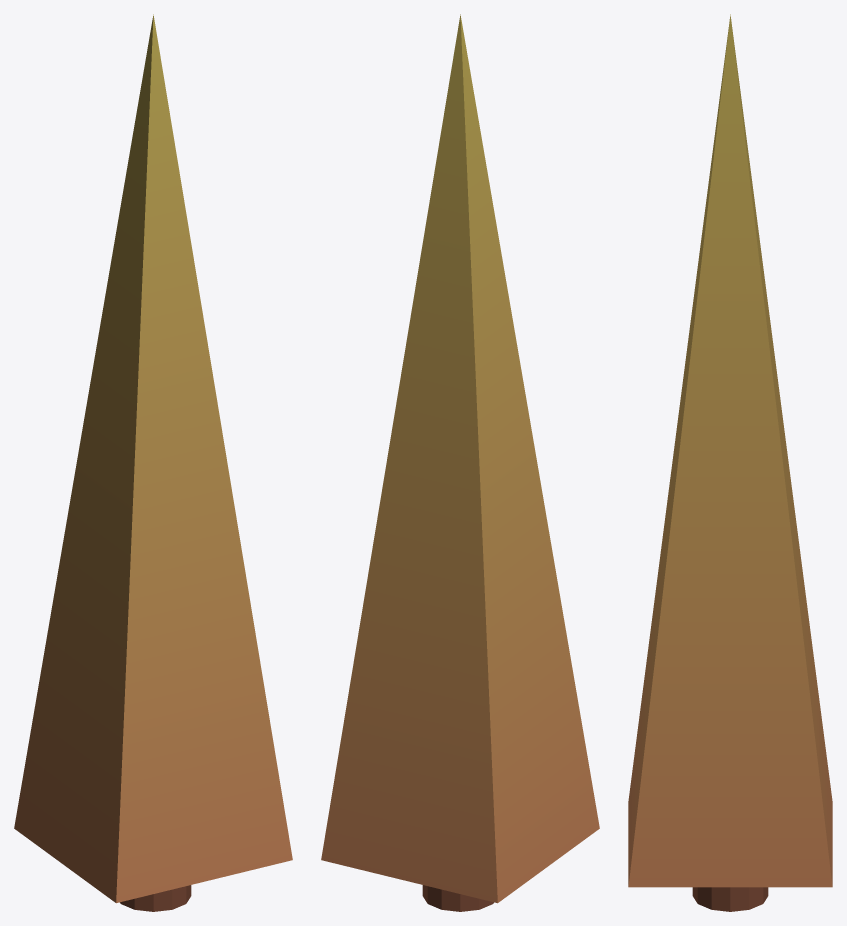
File: Tree_19_gradient_yellow_vc.fbx
The picture shows the model from 3 angles, left to right: view 1: azimuth 30°, elevation 25°; view 2: azimuth 150°, elevation 25°; view 3: azimuth 270°, elevation 25°; orthographic projection.
Parts seen in each view (by area): view 1: Tree_19_gradient_yellow_vc; view 2: Tree_19_gradient_yellow_vc; view 3: Tree_19_gradient_yellow_vc.
Boxes of the visible parts, x1,y1,x2,y2 form: Tree_19_gradient_yellow_vc: (14,14,292,911); Tree_19_gradient_yellow_vc: (321,14,599,911); Tree_19_gradient_yellow_vc: (628,14,832,911).
Size of the model in its own units: 59.69 by 285 by 59.69.
